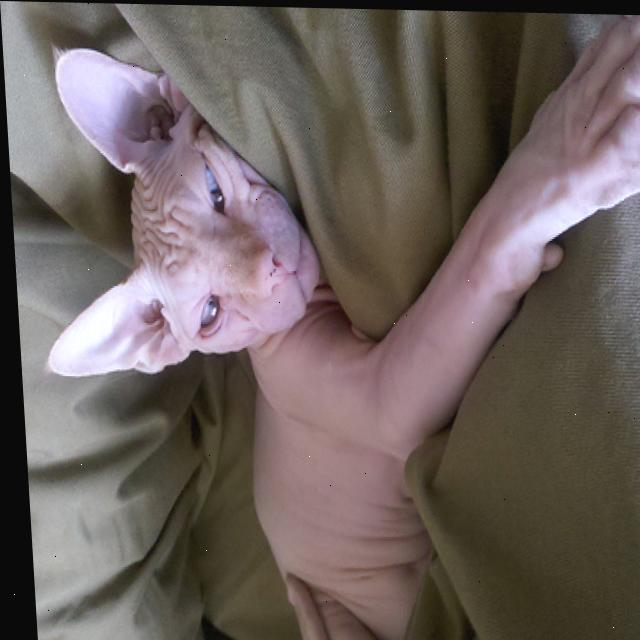Sphynx: (22, 0, 640, 640)
